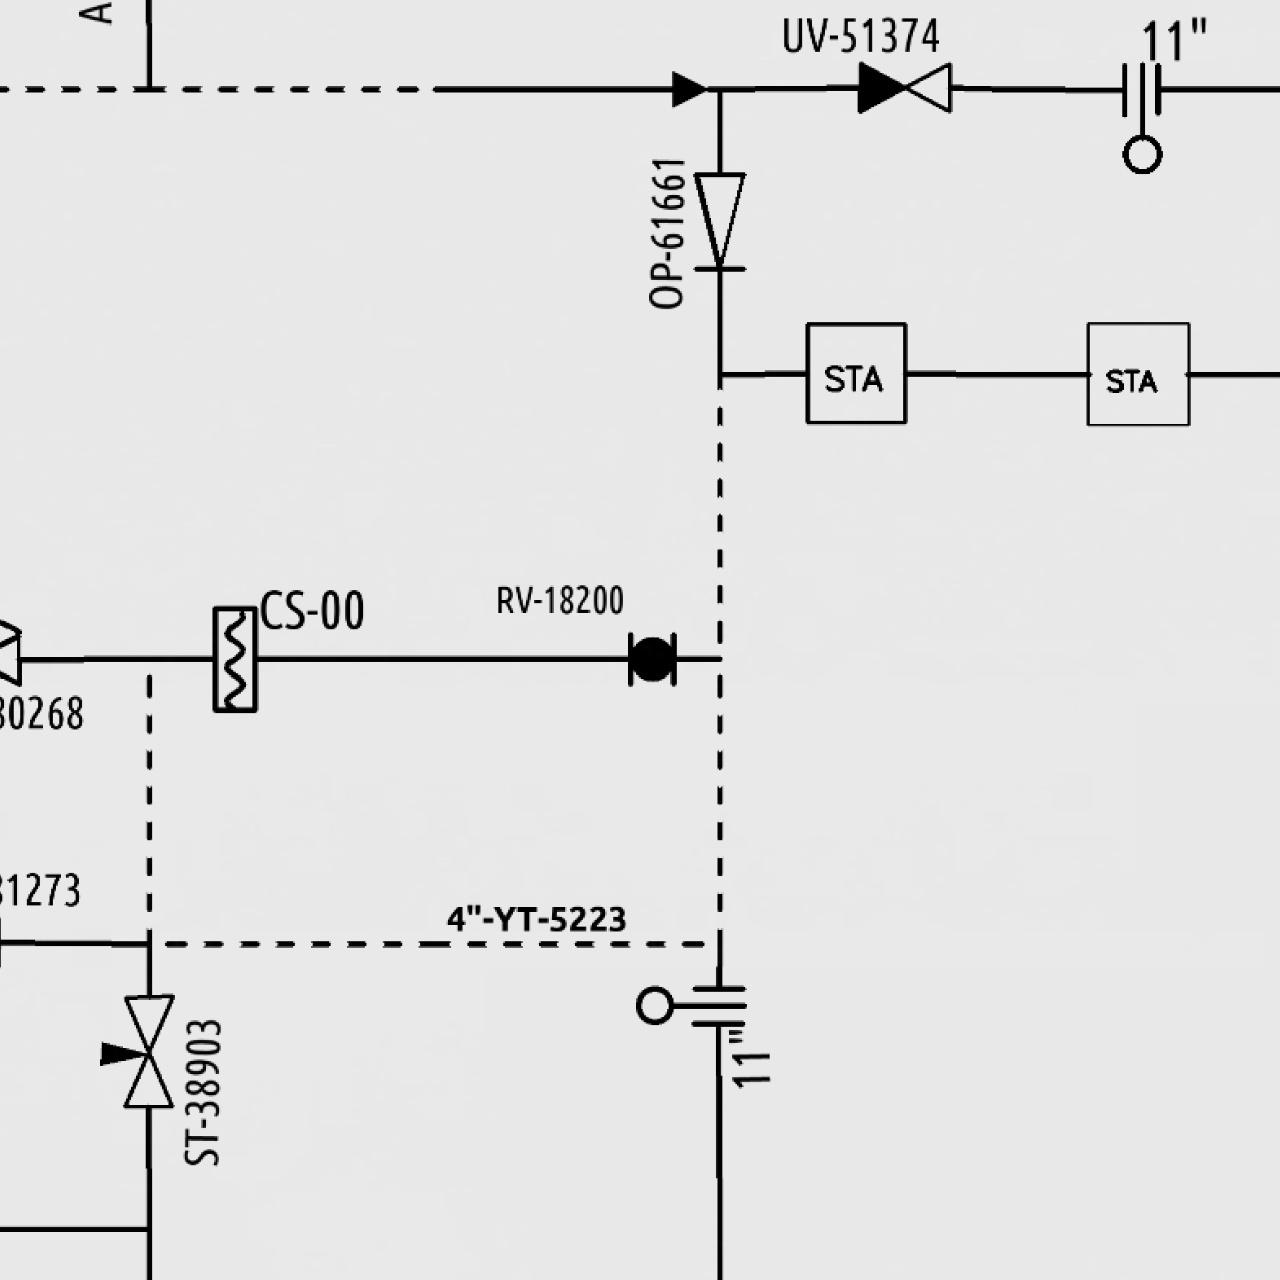Half closed valve: (853, 56, 955, 116)
